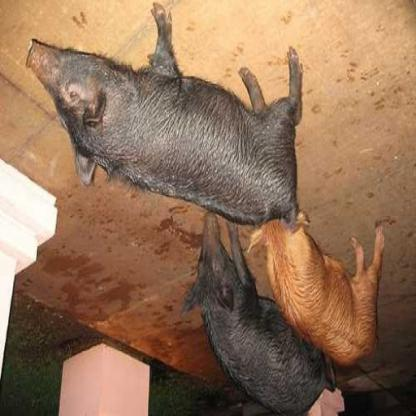boar: (14, 29, 326, 225), (170, 213, 335, 413)
